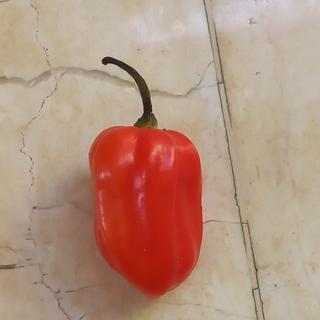Grade-A: (86, 120, 209, 299)
